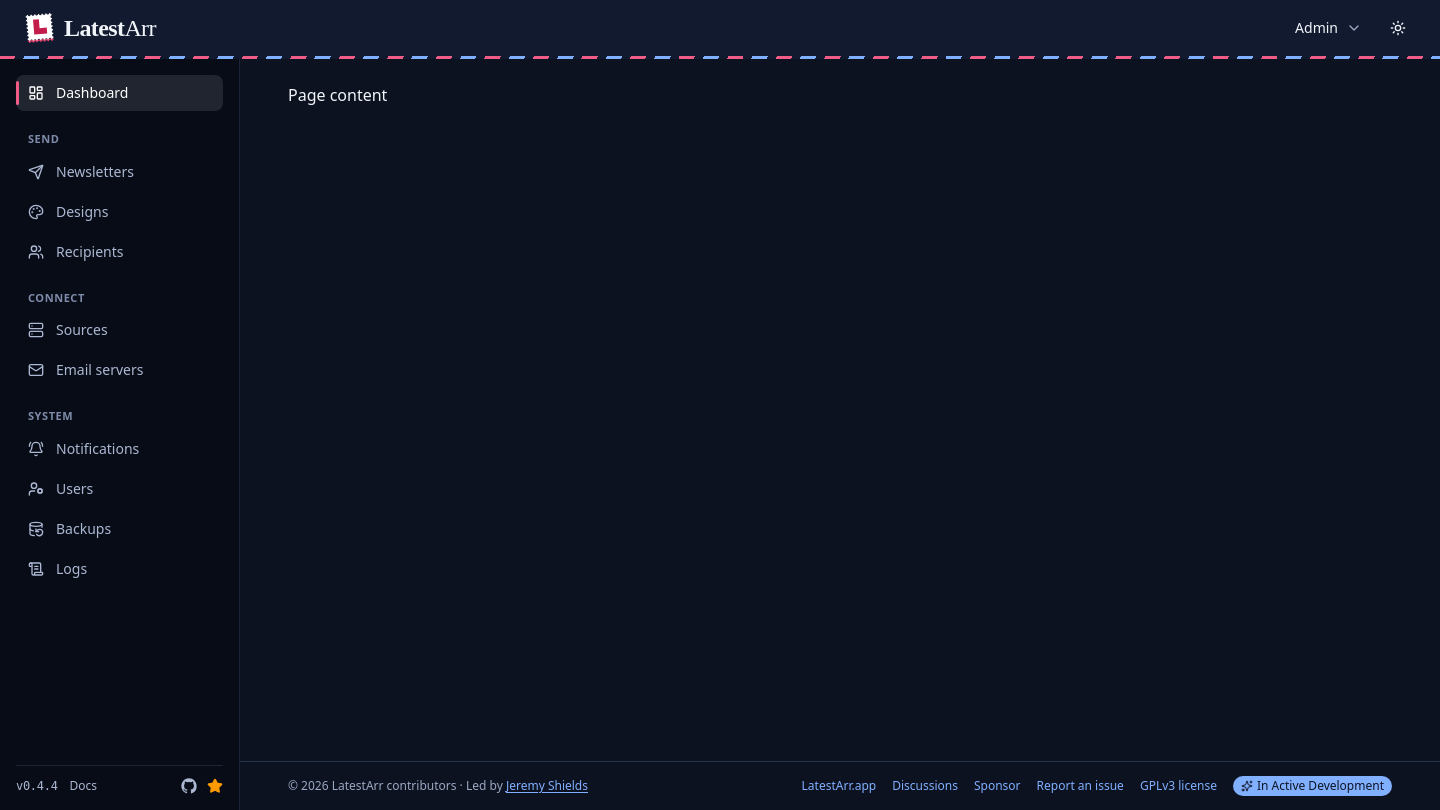
Scenario: AppShell › links SSO from the profile when SSO is set up
expect the text "Admin" is shown: met, box [1295, 18, 1338, 38]
Click the button with aria-label "Admin, account menu" at (1329, 28), box [1285, 10, 1372, 46]
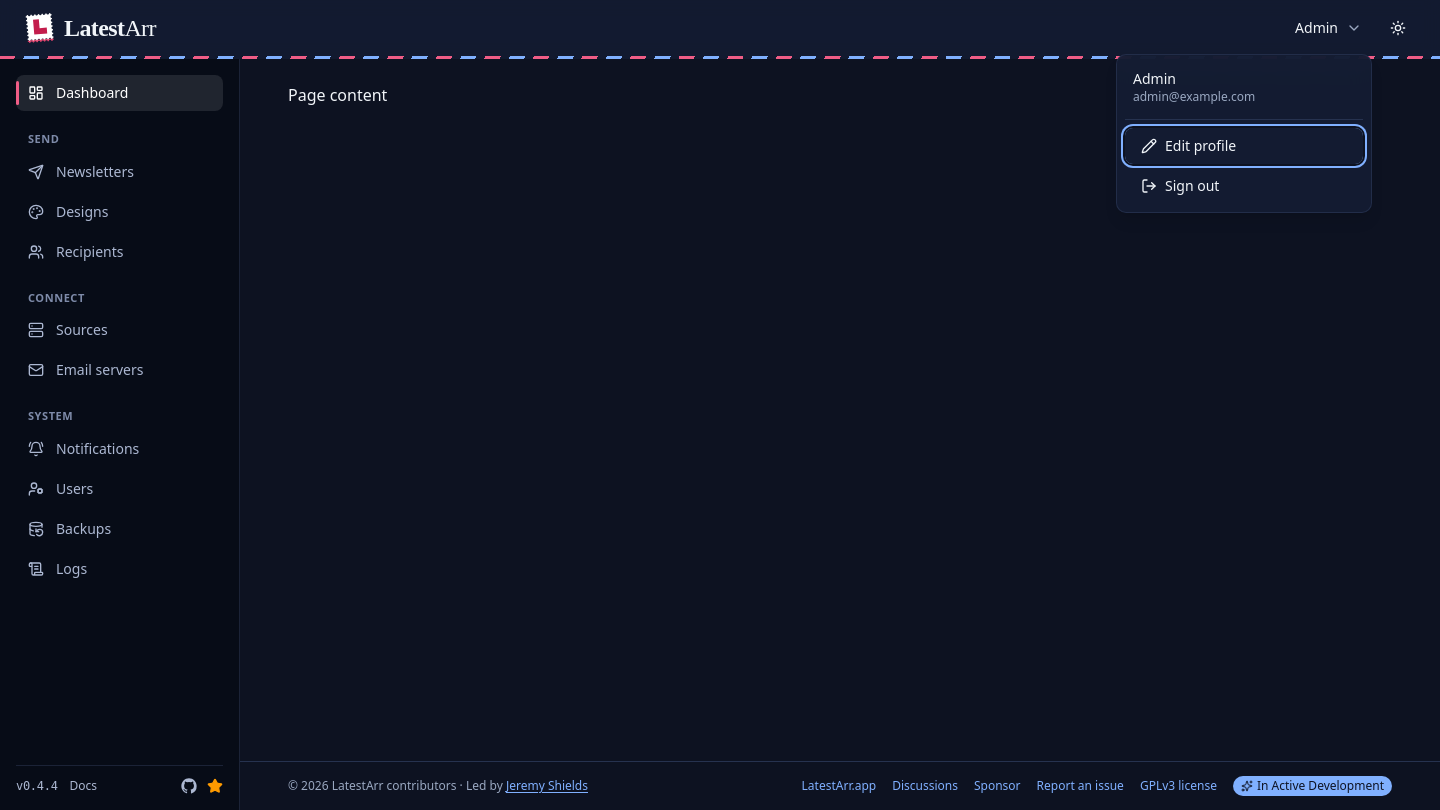
Click the button "Edit profile" at (1244, 146), box [1125, 128, 1363, 164]
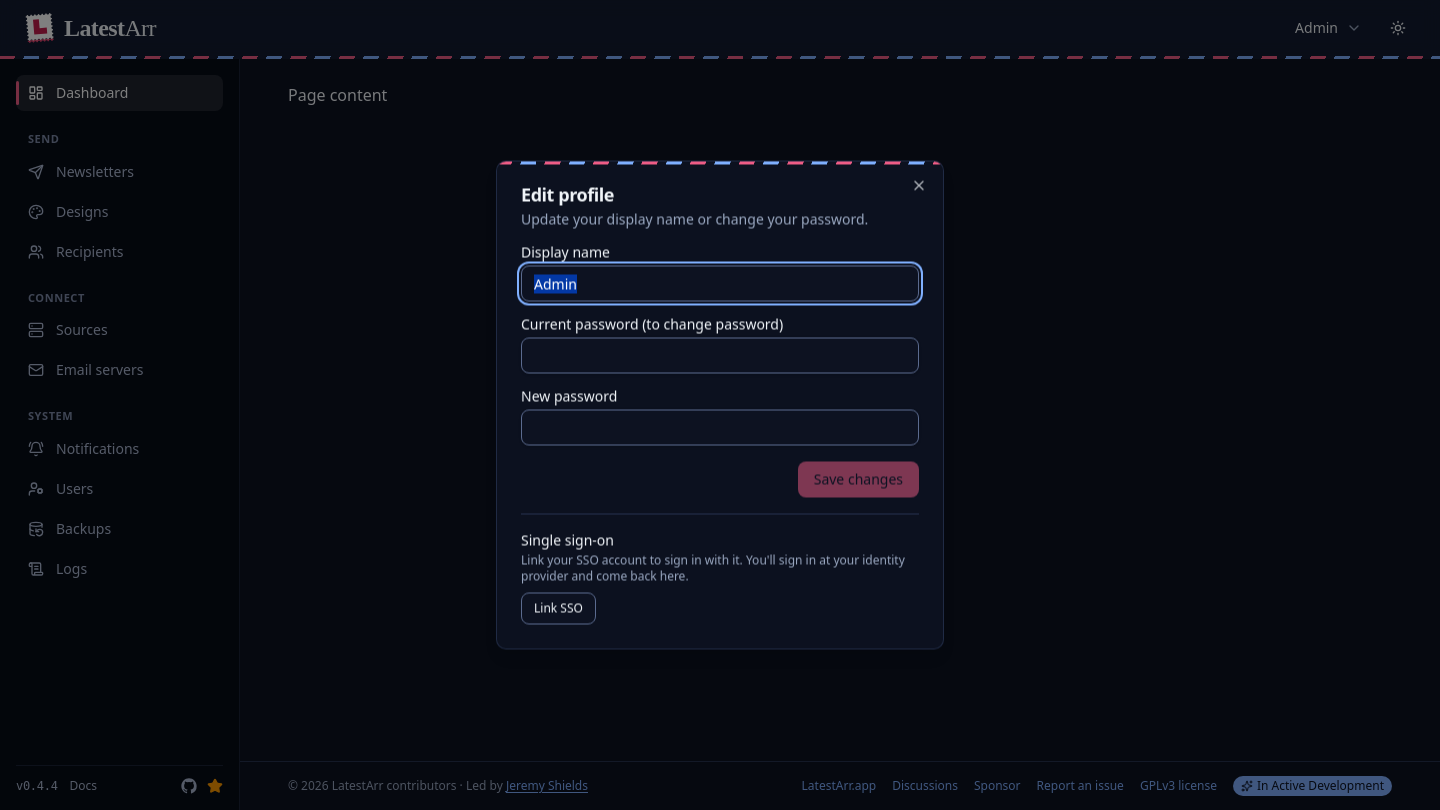
Click the button "Link SSO" at (558, 608), box [521, 592, 596, 624]
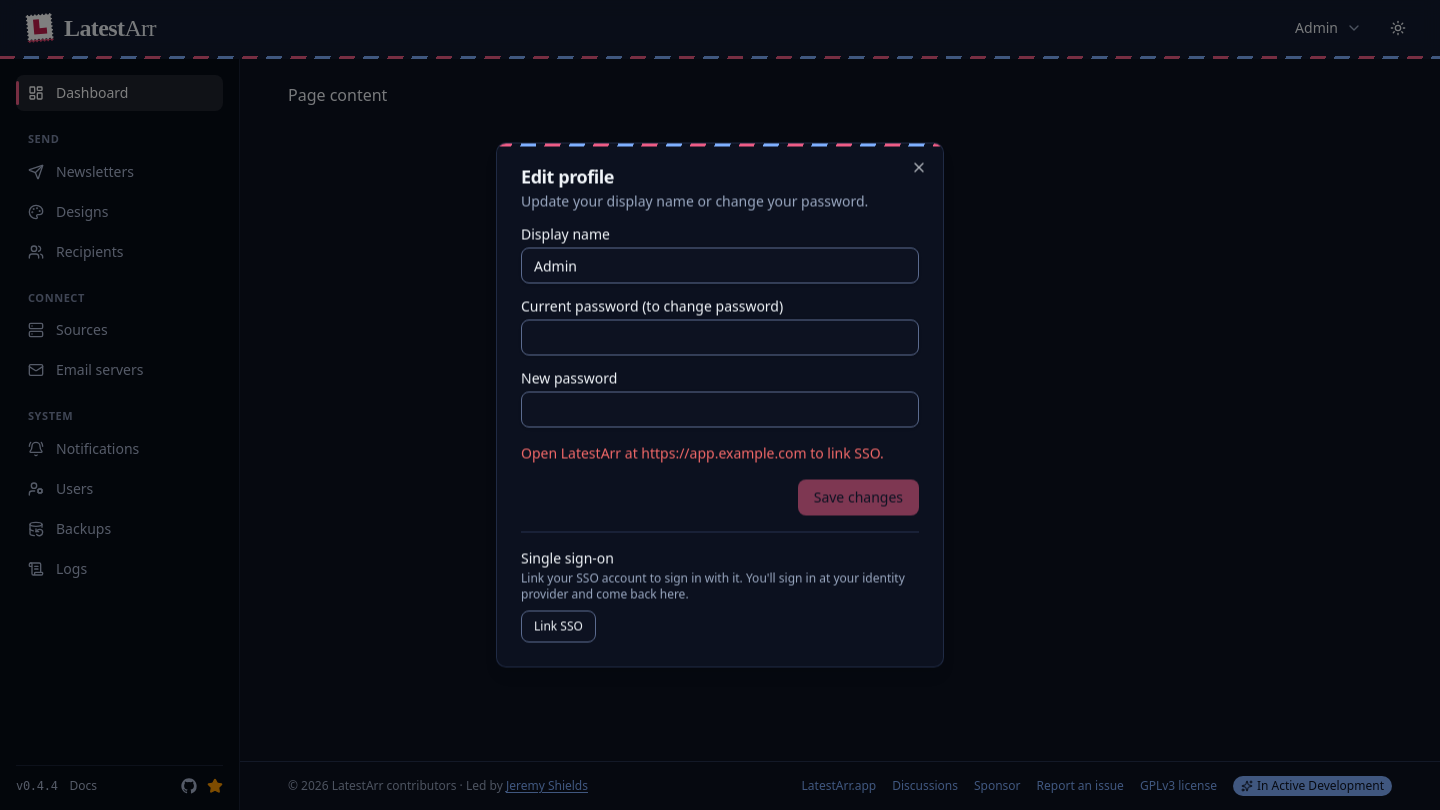
expect the text "Open LatestArr at https://app.example.com to link SSO." is shown: met, box [521, 444, 919, 464]
